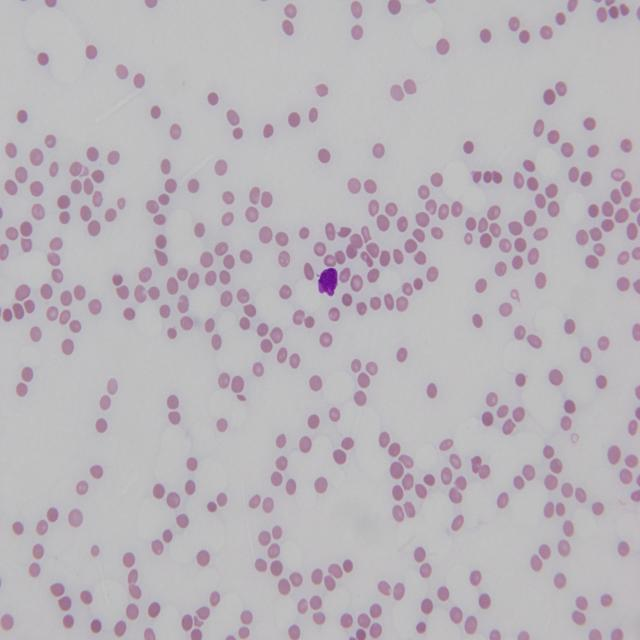cell: (319, 268, 338, 296)
